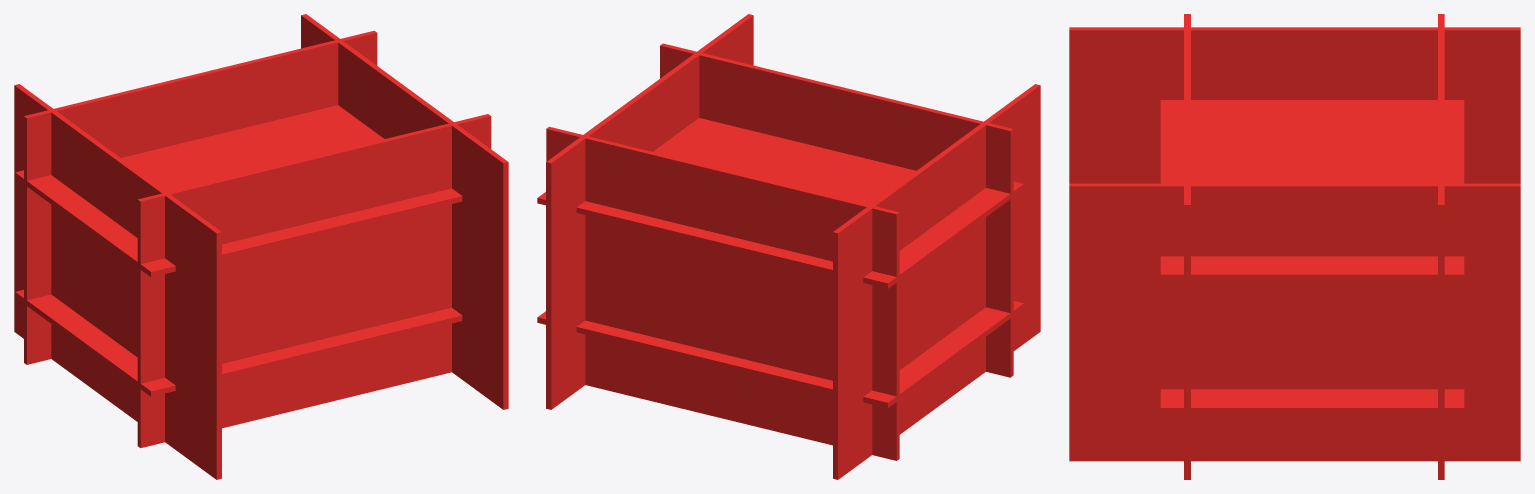
Rendered from room.obj.
3 renders of one model, left to right at view 1: azimuth 30°, elevation 25°; view 2: azimuth 150°, elevation 25°; view 3: azimuth 270°, elevation 25°, orthographic. The views are drawn at different scales.
Visible parts, largest first — view 1: Cube, Cube.006_Cube.010, Cube.005_Cube.006, Cube.004_Cube.009, Cube.002_Cube.007, Cube.001_Cube.008; view 2: Cube.005_Cube.006, Cube.006_Cube.010, Cube, Cube.002_Cube.007, Cube.004_Cube.009, Cube.001_Cube.008; view 3: Cube.004_Cube.009, Cube.006_Cube.010, Cube.002_Cube.007, Cube.001_Cube.008, Cube, Cube.005_Cube.006.
Part boxes in pixels (x1,y1,x2,y2): Cube: (137, 114, 491, 448); Cube.006_Cube.010: (14, 84, 221, 479); Cube.005_Cube.006: (24, 30, 377, 364); Cube.004_Cube.009: (301, 14, 508, 409); Cube.002_Cube.007: (15, 105, 462, 277); Cube.001_Cube.008: (15, 289, 462, 396); Cube.005_Cube.006: (546, 126, 899, 460); Cube.006_Cube.010: (833, 84, 1040, 479); Cube: (660, 43, 1013, 377); Cube.002_Cube.007: (537, 118, 1023, 288); Cube.004_Cube.009: (546, 14, 753, 409); Cube.001_Cube.008: (537, 301, 1023, 408); Cube.004_Cube.009: (1069, 183, 1520, 461); Cube.006_Cube.010: (1069, 27, 1520, 183); Cube.002_Cube.007: (1160, 100, 1464, 280); Cube.001_Cube.008: (1160, 389, 1464, 413); Cube: (1184, 14, 1190, 479); Cube.005_Cube.006: (1438, 14, 1444, 479).
Size of the model in its own units: 24.14 by 16.22 by 24.14.
